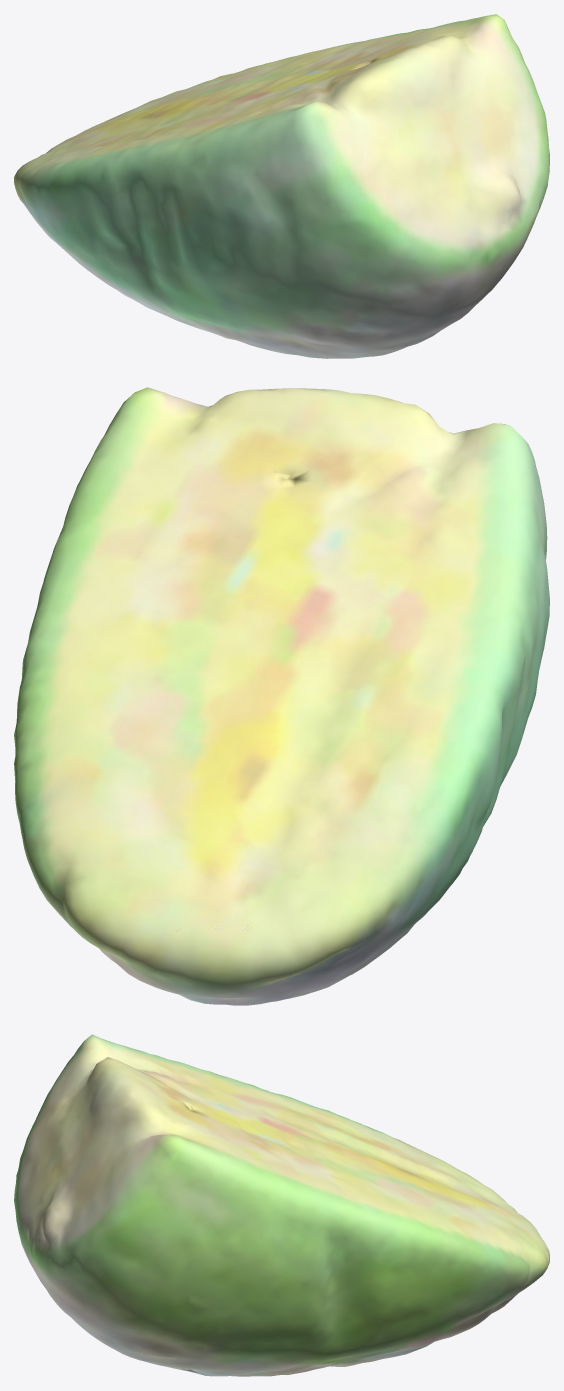
Rendered from melon.glb.
3 renders of one model, top to bottom at view 1: azimuth 30°, elevation 25°; view 2: azimuth 150°, elevation 25°; view 3: azimuth 270°, elevation 25°, orthographic. The views are drawn at different scales.
Visible parts, largest first — view 1: Mesh1; view 2: Mesh1; view 3: Mesh1.
Boxes of the visible parts, x1,y1,x2,y2 form: Mesh1: [14, 14, 549, 358]; Mesh1: [14, 387, 549, 1005]; Mesh1: [14, 1034, 549, 1376].
Bounding box in the file's own units: 0.87 × 0.7559 × 1.2.
1 material, 1 textured.
